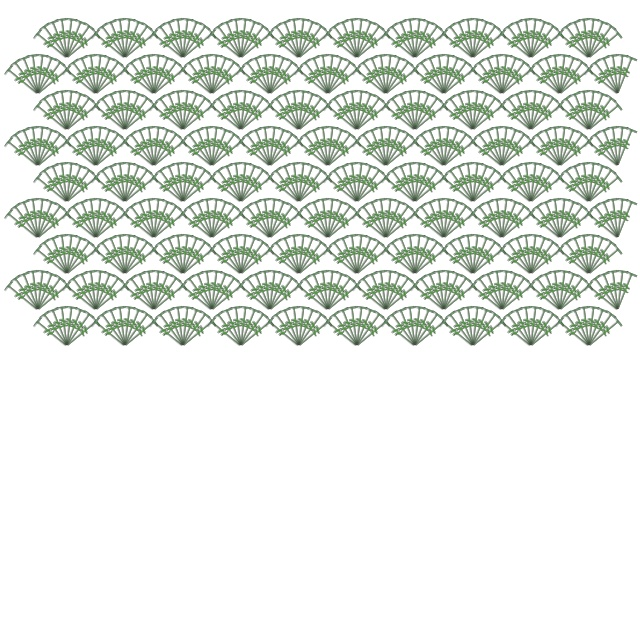fan: (32, 27, 71, 63), (63, 27, 102, 63), (90, 27, 129, 63), (121, 27, 160, 63), (148, 27, 187, 63), (179, 27, 218, 63), (206, 27, 245, 63), (237, 27, 276, 63), (264, 27, 303, 63), (295, 27, 334, 63), (322, 27, 361, 63), (353, 27, 392, 63), (380, 27, 419, 63), (411, 27, 450, 63), (438, 27, 477, 63), (469, 27, 508, 63), (496, 27, 535, 63), (527, 27, 566, 63), (554, 27, 593, 63), (585, 27, 624, 63), (3, 63, 42, 99), (34, 63, 73, 99), (61, 63, 100, 99), (92, 63, 131, 99), (119, 63, 158, 99), (150, 63, 189, 99), (177, 63, 216, 99), (208, 63, 247, 99), (235, 63, 274, 99), (266, 63, 305, 99), (293, 63, 332, 99), (324, 63, 363, 99), (351, 63, 390, 99), (382, 63, 421, 99), (409, 63, 448, 99), (440, 63, 479, 99), (467, 63, 506, 99), (498, 63, 537, 99), (525, 63, 564, 99), (556, 63, 595, 99), (583, 63, 622, 99), (32, 99, 71, 135), (63, 99, 102, 135), (90, 99, 129, 135), (121, 99, 160, 135), (148, 99, 187, 135), (179, 99, 218, 135), (206, 99, 245, 135), (237, 99, 276, 135), (264, 99, 303, 135), (295, 99, 334, 135), (322, 99, 361, 135), (353, 99, 392, 135), (380, 99, 419, 135), (411, 99, 450, 135), (438, 99, 477, 135), (469, 99, 508, 135), (496, 99, 535, 135), (527, 99, 566, 135), (554, 99, 593, 135), (585, 99, 624, 135), (3, 135, 42, 171), (34, 135, 73, 171), (61, 135, 100, 171), (92, 135, 131, 171), (119, 135, 158, 171), (150, 135, 189, 171), (177, 135, 216, 171), (208, 135, 247, 171), (235, 135, 274, 171), (266, 135, 305, 171), (293, 135, 332, 171), (324, 135, 363, 171), (351, 135, 390, 171), (382, 135, 421, 171), (409, 135, 448, 171), (440, 135, 479, 171), (467, 135, 506, 171), (498, 135, 537, 171), (525, 135, 564, 171), (556, 135, 595, 171), (583, 135, 622, 171), (32, 171, 71, 207), (63, 171, 102, 207), (90, 171, 129, 207), (121, 171, 160, 207), (148, 171, 187, 207), (179, 171, 218, 207), (206, 171, 245, 207), (237, 171, 276, 207), (264, 171, 303, 207), (295, 171, 334, 207), (322, 171, 361, 207), (353, 171, 392, 207), (380, 171, 419, 207), (411, 171, 450, 207), (438, 171, 477, 207), (469, 171, 508, 207), (496, 171, 535, 207), (527, 171, 566, 207), (554, 171, 593, 207), (585, 171, 624, 207), (3, 207, 42, 243), (34, 207, 73, 243), (61, 207, 100, 243), (92, 207, 131, 243), (119, 207, 158, 243), (150, 207, 189, 243), (177, 207, 216, 243), (208, 207, 247, 243), (235, 207, 274, 243), (266, 207, 305, 243), (293, 207, 332, 243), (324, 207, 363, 243), (351, 207, 390, 243), (382, 207, 421, 243), (409, 207, 448, 243), (440, 207, 479, 243), (467, 207, 506, 243), (498, 207, 537, 243), (525, 207, 564, 243), (556, 207, 595, 243), (583, 207, 622, 243), (32, 243, 71, 279), (63, 243, 102, 279), (90, 243, 129, 279), (121, 243, 160, 279), (148, 243, 187, 279), (179, 243, 218, 279), (206, 243, 245, 279), (237, 243, 276, 279), (264, 243, 303, 279), (295, 243, 334, 279), (322, 243, 361, 279), (353, 243, 392, 279), (380, 243, 419, 279), (411, 243, 450, 279), (438, 243, 477, 279), (469, 243, 508, 279), (496, 243, 535, 279), (527, 243, 566, 279), (554, 243, 593, 279), (585, 243, 624, 279), (3, 279, 42, 315), (34, 279, 73, 315), (61, 279, 100, 315), (92, 279, 131, 315), (119, 279, 158, 315), (150, 279, 189, 315), (177, 279, 216, 315), (208, 279, 247, 315), (235, 279, 274, 315), (266, 279, 305, 315), (293, 279, 332, 315), (324, 279, 363, 315), (351, 279, 390, 315), (382, 279, 421, 315), (409, 279, 448, 315), (440, 279, 479, 315), (467, 279, 506, 315), (498, 279, 537, 315), (525, 279, 564, 315), (556, 279, 595, 315), (583, 279, 622, 315), (32, 315, 71, 351), (63, 315, 102, 351), (90, 315, 129, 351), (121, 315, 160, 351), (148, 315, 187, 351), (179, 315, 218, 351), (206, 315, 245, 351), (237, 315, 276, 351), (264, 315, 303, 351), (295, 315, 334, 351), (322, 315, 361, 351), (353, 315, 392, 351), (380, 315, 419, 351), (411, 315, 450, 351), (438, 315, 477, 351), (469, 315, 508, 351), (496, 315, 535, 351), (527, 315, 566, 351), (554, 315, 593, 351), (585, 315, 624, 351), (38, 22, 73, 62), (61, 22, 96, 62), (96, 22, 131, 62), (119, 22, 154, 62), (154, 22, 189, 62), (177, 22, 212, 62), (212, 22, 247, 62), (235, 22, 270, 62), (270, 22, 305, 62), (293, 22, 328, 62), (328, 22, 363, 62), (351, 22, 386, 62), (386, 22, 421, 62), (409, 22, 444, 62), (444, 22, 479, 62), (467, 22, 502, 62), (502, 22, 537, 62), (525, 22, 560, 62), (560, 22, 595, 62), (583, 22, 618, 62), (9, 58, 44, 98), (32, 58, 67, 98), (67, 58, 102, 98), (90, 58, 125, 98), (125, 58, 160, 98), (148, 58, 183, 98), (183, 58, 218, 98), (206, 58, 241, 98), (241, 58, 276, 98), (264, 58, 299, 98), (299, 58, 334, 98), (322, 58, 357, 98), (357, 58, 392, 98), (380, 58, 415, 98), (415, 58, 450, 98), (438, 58, 473, 98), (473, 58, 508, 98), (496, 58, 531, 98), (531, 58, 566, 98), (554, 58, 589, 98), (589, 58, 624, 98), (38, 94, 73, 134), (61, 94, 96, 134), (96, 94, 131, 134), (119, 94, 154, 134), (154, 94, 189, 134), (177, 94, 212, 134), (212, 94, 247, 134), (235, 94, 270, 134), (270, 94, 305, 134), (293, 94, 328, 134), (328, 94, 363, 134), (351, 94, 386, 134), (386, 94, 421, 134), (409, 94, 444, 134), (444, 94, 479, 134), (467, 94, 502, 134), (502, 94, 537, 134), (525, 94, 560, 134), (560, 94, 595, 134), (583, 94, 618, 134), (9, 130, 44, 170), (32, 130, 67, 170), (67, 130, 102, 170), (90, 130, 125, 170), (125, 130, 160, 170), (148, 130, 183, 170), (183, 130, 218, 170), (206, 130, 241, 170), (241, 130, 276, 170), (264, 130, 299, 170), (299, 130, 334, 170), (322, 130, 357, 170), (357, 130, 392, 170), (380, 130, 415, 170), (415, 130, 450, 170), (438, 130, 473, 170), (473, 130, 508, 170), (496, 130, 531, 170), (531, 130, 566, 170), (554, 130, 589, 170), (589, 130, 624, 170), (38, 166, 73, 206), (61, 166, 96, 206), (96, 166, 131, 206), (119, 166, 154, 206), (154, 166, 189, 206), (177, 166, 212, 206), (212, 166, 247, 206), (235, 166, 270, 206), (270, 166, 305, 206), (293, 166, 328, 206), (328, 166, 363, 206), (351, 166, 386, 206), (386, 166, 421, 206), (409, 166, 444, 206), (444, 166, 479, 206), (467, 166, 502, 206), (502, 166, 537, 206), (525, 166, 560, 206), (560, 166, 595, 206), (583, 166, 618, 206), (9, 202, 44, 242), (32, 202, 67, 242), (67, 202, 102, 242), (90, 202, 125, 242), (125, 202, 160, 242), (148, 202, 183, 242), (183, 202, 218, 242), (206, 202, 241, 242), (241, 202, 276, 242), (264, 202, 299, 242), (299, 202, 334, 242), (322, 202, 357, 242), (357, 202, 392, 242), (380, 202, 415, 242), (415, 202, 450, 242), (438, 202, 473, 242), (473, 202, 508, 242), (496, 202, 531, 242), (531, 202, 566, 242), (554, 202, 589, 242), (589, 202, 624, 242), (38, 238, 73, 278), (61, 238, 96, 278), (96, 238, 131, 278), (119, 238, 154, 278), (154, 238, 189, 278), (177, 238, 212, 278), (212, 238, 247, 278), (235, 238, 270, 278), (270, 238, 305, 278), (293, 238, 328, 278), (328, 238, 363, 278), (351, 238, 386, 278), (386, 238, 421, 278), (409, 238, 444, 278), (444, 238, 479, 278), (467, 238, 502, 278), (502, 238, 537, 278), (525, 238, 560, 278), (560, 238, 595, 278), (583, 238, 618, 278), (9, 274, 44, 314), (32, 274, 67, 314), (67, 274, 102, 314), (90, 274, 125, 314), (125, 274, 160, 314), (148, 274, 183, 314), (183, 274, 218, 314), (206, 274, 241, 314), (241, 274, 276, 314), (264, 274, 299, 314), (299, 274, 334, 314), (322, 274, 357, 314), (357, 274, 392, 314), (380, 274, 415, 314), (415, 274, 450, 314), (438, 274, 473, 314), (473, 274, 508, 314), (496, 274, 531, 314), (531, 274, 566, 314), (554, 274, 589, 314), (589, 274, 624, 314), (38, 310, 73, 350), (61, 310, 96, 350), (96, 310, 131, 350), (119, 310, 154, 350), (154, 310, 189, 350), (177, 310, 212, 350), (212, 310, 247, 350), (235, 310, 270, 350), (270, 310, 305, 350), (293, 310, 328, 350), (328, 310, 363, 350), (351, 310, 386, 350), (386, 310, 421, 350), (409, 310, 444, 350), (444, 310, 479, 350), (467, 310, 502, 350), (502, 310, 537, 350), (525, 310, 560, 350), (560, 310, 595, 350), (583, 310, 618, 350), (46, 18, 74, 61), (60, 18, 88, 61), (104, 18, 132, 61), (118, 18, 146, 61), (162, 18, 190, 61), (176, 18, 204, 61), (220, 18, 248, 61), (234, 18, 262, 61), (278, 18, 306, 61), (292, 18, 320, 61), (336, 18, 364, 61), (350, 18, 378, 61), (394, 18, 422, 61), (408, 18, 436, 61), (452, 18, 480, 61), (466, 18, 494, 61), (510, 18, 538, 61), (524, 18, 552, 61), (568, 18, 596, 61), (582, 18, 610, 61), (17, 54, 45, 97), (31, 54, 59, 97), (75, 54, 103, 97), (89, 54, 117, 97), (133, 54, 161, 97), (147, 54, 175, 97), (191, 54, 219, 97), (205, 54, 233, 97), (249, 54, 277, 97), (263, 54, 291, 97), (307, 54, 335, 97), (321, 54, 349, 97), (365, 54, 393, 97), (379, 54, 407, 97), (423, 54, 451, 97), (437, 54, 465, 97), (481, 54, 509, 97), (495, 54, 523, 97), (539, 54, 567, 97), (553, 54, 581, 97), (597, 54, 625, 97), (611, 54, 639, 97), (46, 90, 74, 133), (60, 90, 88, 133), (104, 90, 132, 133), (118, 90, 146, 133), (162, 90, 190, 133), (176, 90, 204, 133), (220, 90, 248, 133), (234, 90, 262, 133), (278, 90, 306, 133), (292, 90, 320, 133), (336, 90, 364, 133), (350, 90, 378, 133), (394, 90, 422, 133), (408, 90, 436, 133), (452, 90, 480, 133), (466, 90, 494, 133), (510, 90, 538, 133), (524, 90, 552, 133), (568, 90, 596, 133), (582, 90, 610, 133), (17, 126, 45, 169), (31, 126, 59, 169), (75, 126, 103, 169), (89, 126, 117, 169), (133, 126, 161, 169), (147, 126, 175, 169), (191, 126, 219, 169), (205, 126, 233, 169), (249, 126, 277, 169), (263, 126, 291, 169), (307, 126, 335, 169), (321, 126, 349, 169), (365, 126, 393, 169), (379, 126, 407, 169), (423, 126, 451, 169), (437, 126, 465, 169), (481, 126, 509, 169), (495, 126, 523, 169), (539, 126, 567, 169), (553, 126, 581, 169), (597, 126, 625, 169), (611, 126, 639, 169), (46, 162, 74, 205), (60, 162, 88, 205), (104, 162, 132, 205), (118, 162, 146, 205), (162, 162, 190, 205), (176, 162, 204, 205), (220, 162, 248, 205), (234, 162, 262, 205), (278, 162, 306, 205), (292, 162, 320, 205), (336, 162, 364, 205), (350, 162, 378, 205), (394, 162, 422, 205), (408, 162, 436, 205), (452, 162, 480, 205), (466, 162, 494, 205), (510, 162, 538, 205), (524, 162, 552, 205), (568, 162, 596, 205), (582, 162, 610, 205), (17, 198, 45, 241), (31, 198, 59, 241), (75, 198, 103, 241), (89, 198, 117, 241), (133, 198, 161, 241), (147, 198, 175, 241), (191, 198, 219, 241), (205, 198, 233, 241), (249, 198, 277, 241), (263, 198, 291, 241), (307, 198, 335, 241), (321, 198, 349, 241), (365, 198, 393, 241), (379, 198, 407, 241), (423, 198, 451, 241), (437, 198, 465, 241), (481, 198, 509, 241), (495, 198, 523, 241), (539, 198, 567, 241), (553, 198, 581, 241), (597, 198, 625, 241), (611, 198, 639, 241), (46, 234, 74, 277), (60, 234, 88, 277), (104, 234, 132, 277), (118, 234, 146, 277), (162, 234, 190, 277), (176, 234, 204, 277), (220, 234, 248, 277), (234, 234, 262, 277), (278, 234, 306, 277), (292, 234, 320, 277), (336, 234, 364, 277), (350, 234, 378, 277), (394, 234, 422, 277), (408, 234, 436, 277), (452, 234, 480, 277), (466, 234, 494, 277), (510, 234, 538, 277), (524, 234, 552, 277), (568, 234, 596, 277), (582, 234, 610, 277), (17, 270, 45, 313), (31, 270, 59, 313), (75, 270, 103, 313), (89, 270, 117, 313), (133, 270, 161, 313), (147, 270, 175, 313), (191, 270, 219, 313), (205, 270, 233, 313), (249, 270, 277, 313), (263, 270, 291, 313), (307, 270, 335, 313), (321, 270, 349, 313), (365, 270, 393, 313), (379, 270, 407, 313), (423, 270, 451, 313), (437, 270, 465, 313), (481, 270, 509, 313), (495, 270, 523, 313), (539, 270, 567, 313), (553, 270, 581, 313), (597, 270, 625, 313), (611, 270, 639, 313), (46, 306, 74, 349), (60, 306, 88, 349), (104, 306, 132, 349), (118, 306, 146, 349), (162, 306, 190, 349), (176, 306, 204, 349), (220, 306, 248, 349), (234, 306, 262, 349), (278, 306, 306, 349), (292, 306, 320, 349), (336, 306, 364, 349), (350, 306, 378, 349), (394, 306, 422, 349), (408, 306, 436, 349), (452, 306, 480, 349), (466, 306, 494, 349), (510, 306, 538, 349), (524, 306, 552, 349), (568, 306, 596, 349), (582, 306, 610, 349), (55, 17, 74, 59), (60, 17, 79, 59), (113, 17, 132, 59), (118, 17, 137, 59), (171, 17, 190, 59), (176, 17, 195, 59), (229, 17, 248, 59), (234, 17, 253, 59), (287, 17, 306, 59), (292, 17, 311, 59), (345, 17, 364, 59), (350, 17, 369, 59), (403, 17, 422, 59), (408, 17, 427, 59), (461, 17, 480, 59), (466, 17, 485, 59), (519, 17, 538, 59), (524, 17, 543, 59), (577, 17, 596, 59), (582, 17, 601, 59), (26, 53, 45, 95), (31, 53, 50, 95), (84, 53, 103, 95), (89, 53, 108, 95), (142, 53, 161, 95), (147, 53, 166, 95), (200, 53, 219, 95), (205, 53, 224, 95), (258, 53, 277, 95), (263, 53, 282, 95), (316, 53, 335, 95), (321, 53, 340, 95), (374, 53, 393, 95), (379, 53, 398, 95), (432, 53, 451, 95), (437, 53, 456, 95), (490, 53, 509, 95), (495, 53, 514, 95), (548, 53, 567, 95), (553, 53, 572, 95), (606, 53, 625, 95), (611, 53, 630, 95), (55, 89, 74, 131), (60, 89, 79, 131), (113, 89, 132, 131), (118, 89, 137, 131), (171, 89, 190, 131), (176, 89, 195, 131), (229, 89, 248, 131), (234, 89, 253, 131), (287, 89, 306, 131), (292, 89, 311, 131), (345, 89, 364, 131), (350, 89, 369, 131), (403, 89, 422, 131), (408, 89, 427, 131), (461, 89, 480, 131), (466, 89, 485, 131), (519, 89, 538, 131), (524, 89, 543, 131), (577, 89, 596, 131), (582, 89, 601, 131), (26, 125, 45, 167), (31, 125, 50, 167), (84, 125, 103, 167), (89, 125, 108, 167), (142, 125, 161, 167), (147, 125, 166, 167), (200, 125, 219, 167), (205, 125, 224, 167), (258, 125, 277, 167), (263, 125, 282, 167), (316, 125, 335, 167), (321, 125, 340, 167), (374, 125, 393, 167), (379, 125, 398, 167), (432, 125, 451, 167), (437, 125, 456, 167), (490, 125, 509, 167), (495, 125, 514, 167), (548, 125, 567, 167), (553, 125, 572, 167), (606, 125, 625, 167), (611, 125, 630, 167), (55, 161, 74, 203), (60, 161, 79, 203), (113, 161, 132, 203), (118, 161, 137, 203), (171, 161, 190, 203), (176, 161, 195, 203), (229, 161, 248, 203), (234, 161, 253, 203), (287, 161, 306, 203), (292, 161, 311, 203), (345, 161, 364, 203), (350, 161, 369, 203), (403, 161, 422, 203), (408, 161, 427, 203), (461, 161, 480, 203), (466, 161, 485, 203), (519, 161, 538, 203), (524, 161, 543, 203), (577, 161, 596, 203), (582, 161, 601, 203), (26, 197, 45, 239), (31, 197, 50, 239), (84, 197, 103, 239), (89, 197, 108, 239), (142, 197, 161, 239), (147, 197, 166, 239), (200, 197, 219, 239), (205, 197, 224, 239), (258, 197, 277, 239), (263, 197, 282, 239), (316, 197, 335, 239), (321, 197, 340, 239), (374, 197, 393, 239), (379, 197, 398, 239), (432, 197, 451, 239), (437, 197, 456, 239), (490, 197, 509, 239), (495, 197, 514, 239), (548, 197, 567, 239), (553, 197, 572, 239), (606, 197, 625, 239), (611, 197, 630, 239), (55, 233, 74, 275), (60, 233, 79, 275), (113, 233, 132, 275), (118, 233, 137, 275), (171, 233, 190, 275), (176, 233, 195, 275), (229, 233, 248, 275), (234, 233, 253, 275), (287, 233, 306, 275), (292, 233, 311, 275), (345, 233, 364, 275), (350, 233, 369, 275), (403, 233, 422, 275), (408, 233, 427, 275), (461, 233, 480, 275), (466, 233, 485, 275), (519, 233, 538, 275), (524, 233, 543, 275), (577, 233, 596, 275), (582, 233, 601, 275), (26, 269, 45, 311), (31, 269, 50, 311), (84, 269, 103, 311), (89, 269, 108, 311), (142, 269, 161, 311), (147, 269, 166, 311), (200, 269, 219, 311), (205, 269, 224, 311), (258, 269, 277, 311), (263, 269, 282, 311), (316, 269, 335, 311), (321, 269, 340, 311), (374, 269, 393, 311), (379, 269, 398, 311), (432, 269, 451, 311), (437, 269, 456, 311), (490, 269, 509, 311), (495, 269, 514, 311), (548, 269, 567, 311), (553, 269, 572, 311), (606, 269, 625, 311), (611, 269, 630, 311), (55, 305, 74, 347), (60, 305, 79, 347), (113, 305, 132, 347), (118, 305, 137, 347), (171, 305, 190, 347), (176, 305, 195, 347), (229, 305, 248, 347), (234, 305, 253, 347), (287, 305, 306, 347), (292, 305, 311, 347), (345, 305, 364, 347), (350, 305, 369, 347), (403, 305, 422, 347), (408, 305, 427, 347), (461, 305, 480, 347), (466, 305, 485, 347), (519, 305, 538, 347), (524, 305, 543, 347), (577, 305, 596, 347), (582, 305, 601, 347)
